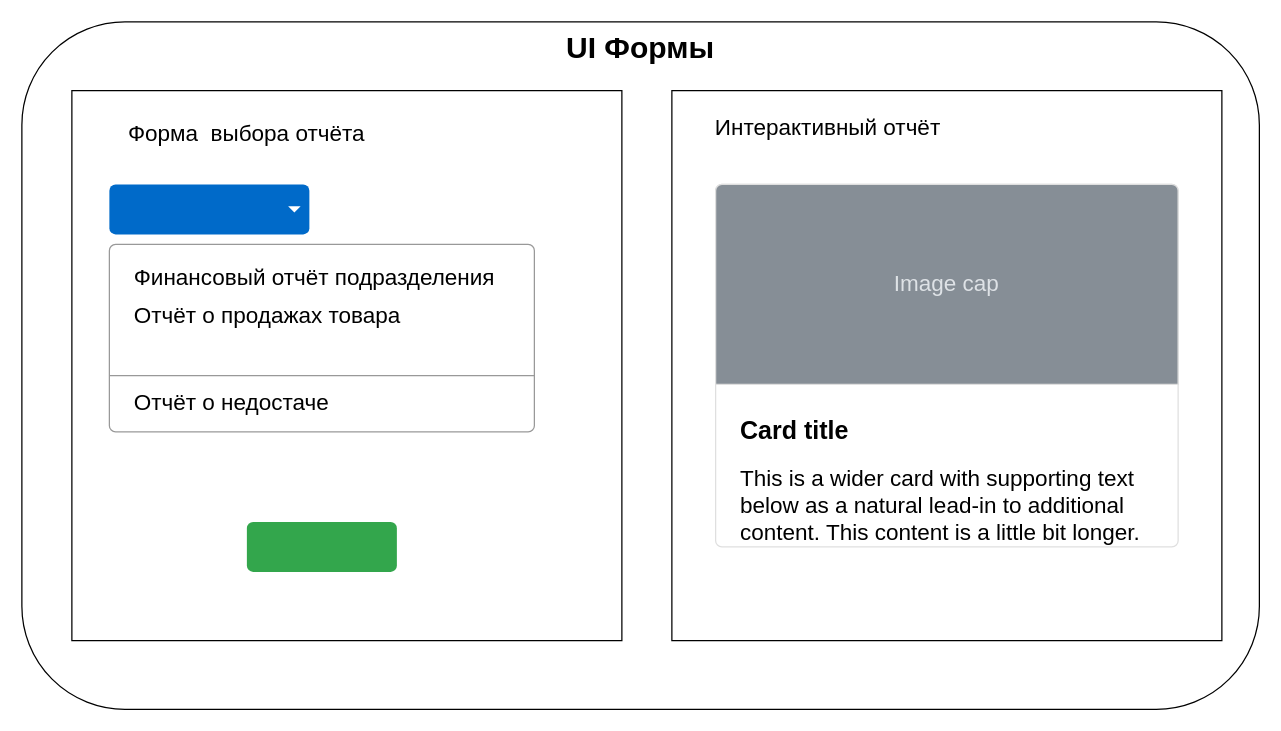
Image size: 1281x731. Some labels were removed from this diagram. Each missing label, with the centre of its shape:
"Вид отчета" belongs at pixel 209 209.
"Получить" belongs at pixel 321 546.
